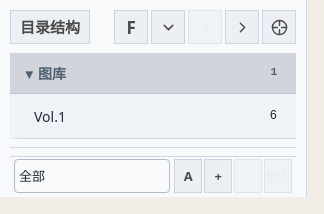
SidebarPanel image collapse interactions › 双击无自身图片的目录节点可折叠/展开子节点
Check: the button "Vol.1 6" is shown, box [22,94,296,138]
Double-click the button "▾ 图库 1": (29, 73) [10,53,296,93]
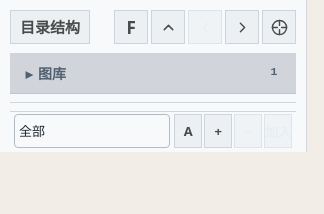
Check: the button "Vol.1" is gone
Double-click the button "▸ 图库 1": (29, 73) [10,53,296,93]
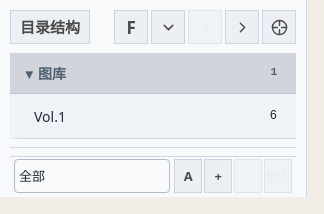
Check: the button "Vol.1 6" is shown, box [22,94,296,138]
